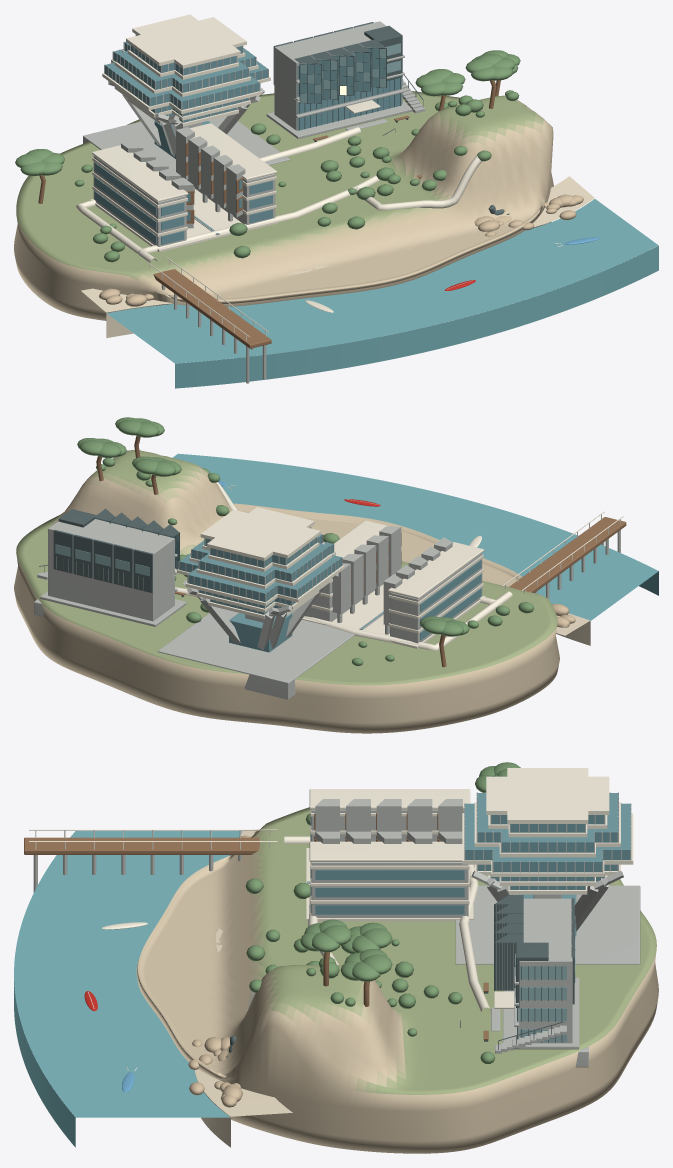
File: miniature.glb
3 renders of one model, top to bottom at view 1: azimuth 30°, elevation 25°; view 2: azimuth 150°, elevation 25°; view 3: azimuth 270°, elevation 25°, orthographic. The views are drawn at different scales.
Parts seen in each view (by area): view 1: Miniature sandstone land, PacificSurface, Pacific relief edge, Native coastal planting, Geisel · Limestone trim, Salk · Limestone trim, Salk · Board formed concrete, Geisel · Pacific blue glazing, DIB · Board formed concrete, Geisel · Board formed concrete, DIB · Pacific blue glazing, Limestone pedestrian path (+8 smaller); view 2: Miniature sandstone land, PacificSurface, Geisel · Board formed concrete, DIB · Board formed concrete, Salk · Board formed concrete, Geisel · Limestone trim, Geisel · Pacific blue glazing, Salk · Limestone trim, DIB · Charcoal anodized fins, Native coastal planting, Research pier deck, Limestone pedestrian path (+6 smaller); view 3: Miniature sandstone land, PacificSurface, Geisel · Limestone trim, Geisel · Board formed concrete, Salk · Board formed concrete, Geisel · Pacific blue glazing, Salk · Limestone trim, DIB · Board formed concrete, Native coastal planting, Salk · Pacific blue glazing, DIB · Charcoal anodized fins, Research pier deck (+7 smaller).
Boxes of the visible parts, bbox=[...] form: Miniature sandstone land: bbox=[14, 91, 553, 320]; PacificSurface: bbox=[107, 199, 658, 363]; Pacific relief edge: bbox=[175, 246, 658, 388]; Native coastal planting: bbox=[15, 50, 520, 262]; Geisel · Limestone trim: bbox=[102, 14, 270, 126]; Salk · Limestone trim: bbox=[90, 123, 278, 252]; Salk · Board formed concrete: bbox=[93, 127, 275, 246]; Geisel · Pacific blue glazing: bbox=[105, 35, 267, 158]; DIB · Board formed concrete: bbox=[266, 21, 425, 138]; Geisel · Board formed concrete: bbox=[83, 34, 289, 171]; DIB · Pacific blue glazing: bbox=[297, 47, 401, 130]; Limestone pedestrian path: bbox=[75, 127, 482, 262]; Miniature sandstone land: bbox=[14, 450, 559, 733]; PacificSurface: bbox=[172, 453, 658, 620]; Geisel · Board formed concrete: bbox=[157, 527, 354, 699]; DIB · Board formed concrete: bbox=[34, 519, 186, 626]; Salk · Board formed concrete: bbox=[304, 526, 482, 643]; Geisel · Limestone trim: bbox=[177, 507, 344, 618]; Geisel · Pacific blue glazing: bbox=[179, 527, 341, 652]; Salk · Limestone trim: bbox=[302, 520, 485, 648]; DIB · Charcoal anodized fins: bbox=[39, 508, 183, 597]; Native coastal planting: bbox=[77, 417, 533, 666]; Research pier deck: bbox=[509, 517, 626, 592]; Limestone pedestrian path: bbox=[175, 482, 512, 650]; Miniature sandstone land: bbox=[136, 807, 658, 1153]; PacificSurface: bbox=[14, 831, 242, 1117]; Geisel · Limestone trim: bbox=[462, 768, 633, 894]; Geisel · Board formed concrete: bbox=[455, 792, 640, 964]; Salk · Board formed concrete: bbox=[307, 799, 468, 917]; Geisel · Pacific blue glazing: bbox=[464, 793, 630, 936]; Salk · Limestone trim: bbox=[306, 789, 473, 921]; DIB · Board formed concrete: bbox=[491, 898, 588, 1067]; Native coastal planting: bbox=[245, 762, 520, 1063]; Salk · Pacific blue glazing: bbox=[307, 817, 464, 914]; DIB · Charcoal anodized fins: bbox=[460, 894, 574, 1049]; Research pier deck: bbox=[24, 837, 259, 854].
Bounding box in the file's own units: 21.03 × 6.26 × 19.21.
